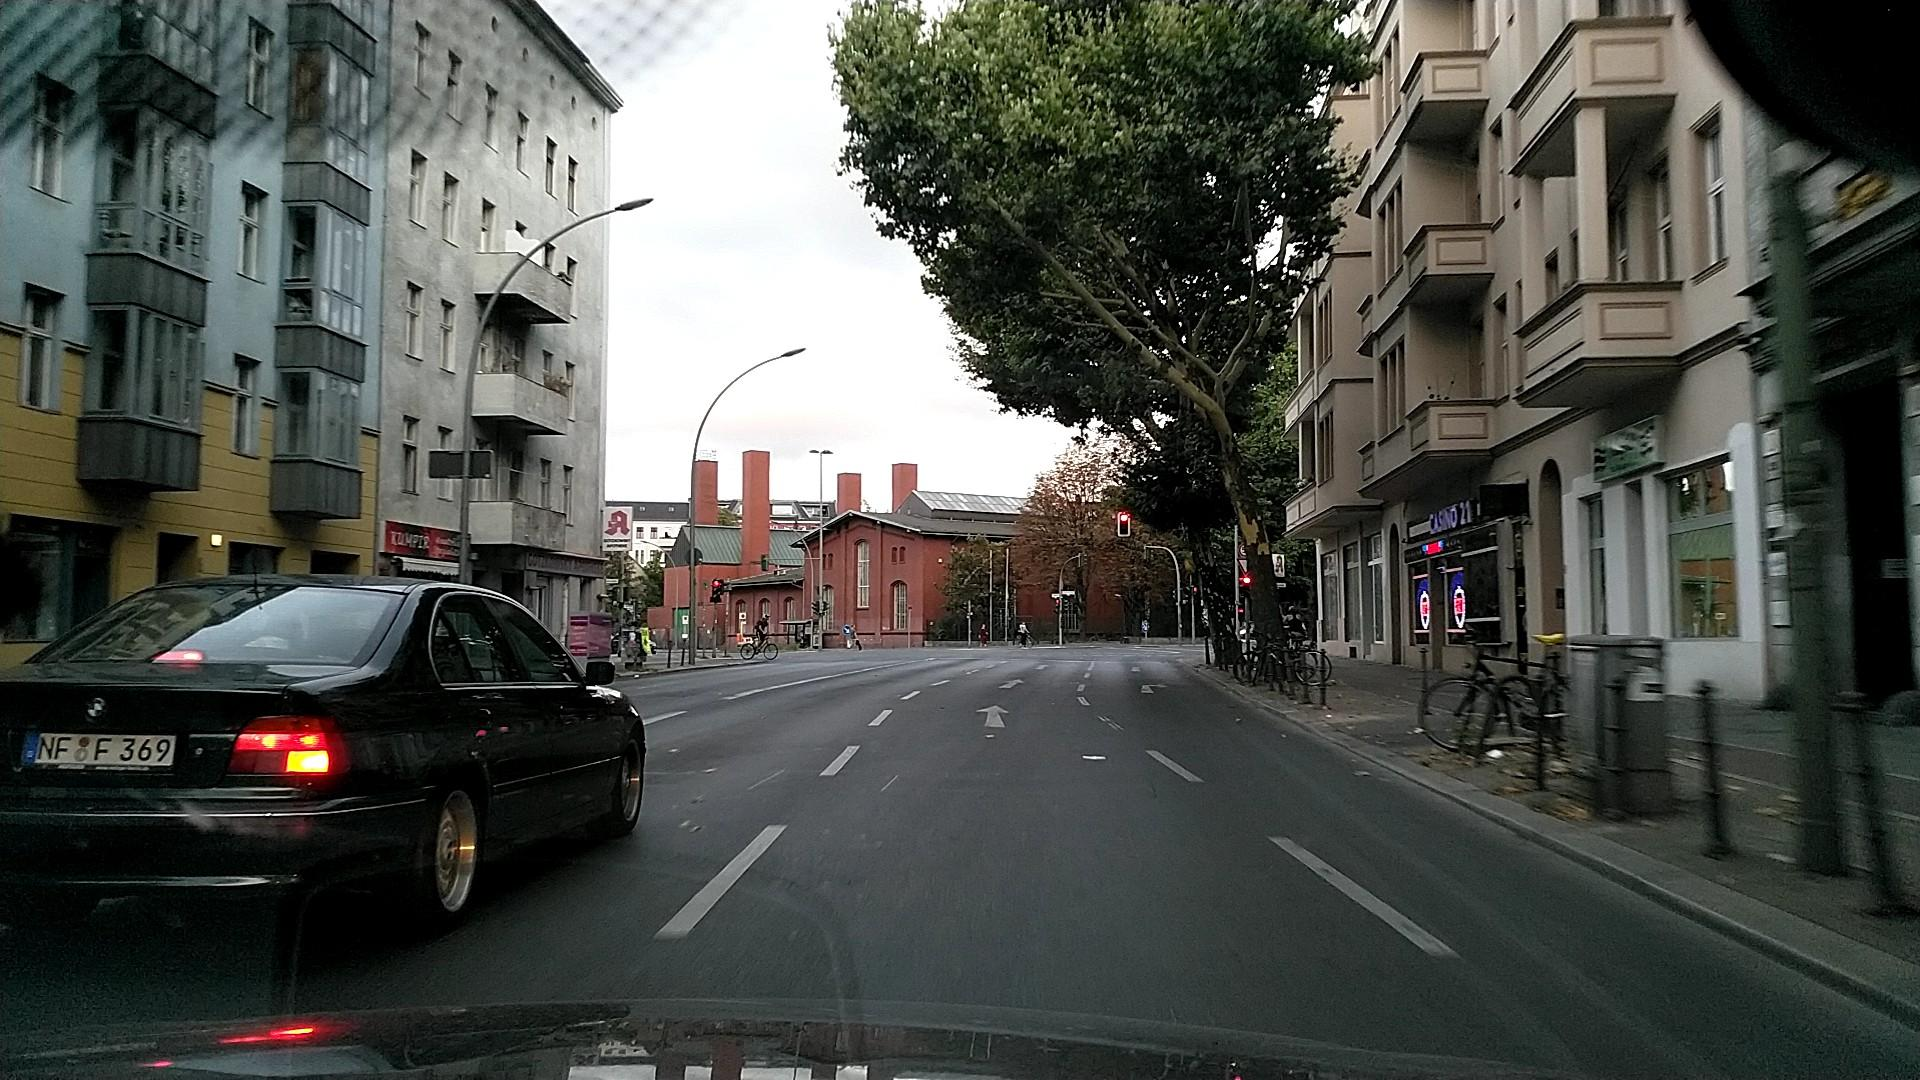Vehicle registration plate: (23, 731, 175, 769)
